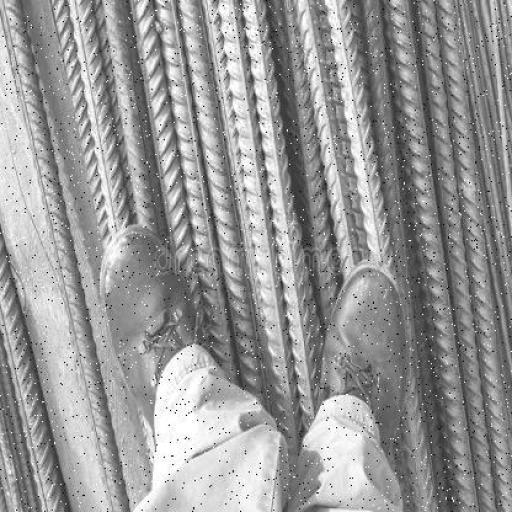safety_shoe: (98, 230, 223, 463), (320, 260, 407, 474)
